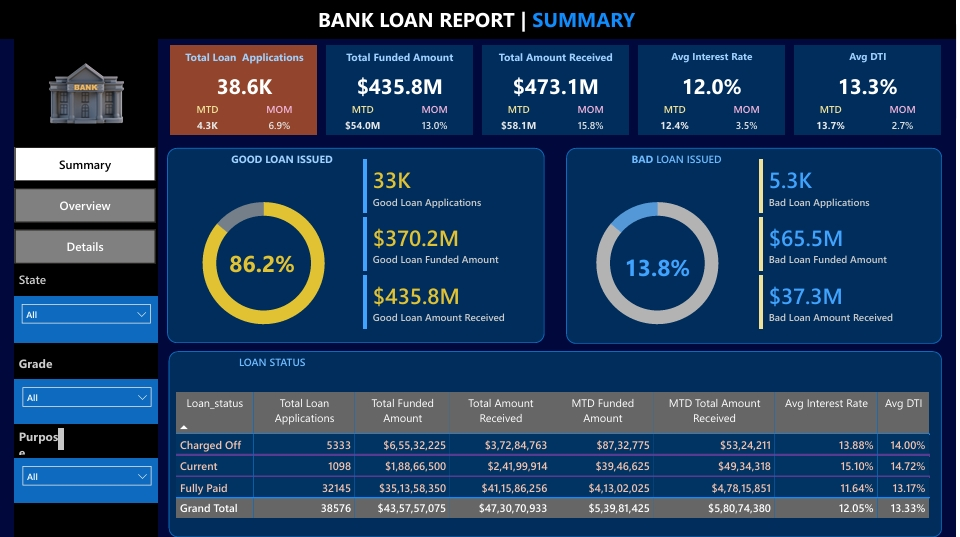

This screenshot's page, from the dashboard's own definition file:
{"tool":"powerbi","page":{"name":"Summary","canvas":[1280,720],"ordinal":0},"visuals":[{"type":"shape","box":[23.1,53.8,192.3,665.4],"z":0},{"type":"shape","box":[231.6,63.6,195.6,119.3],"z":1000,"group":"g1"},{"type":"shape","box":[439.3,63.6,195.6,119.3],"z":1000,"group":"g2"},{"type":"shape","box":[647.1,63.6,195.6,119.3],"z":1000,"group":"g3"},{"type":"shape","box":[854.8,63.6,195.6,119.3],"z":1000,"group":"g4"},{"type":"shape","box":[1062.5,63.6,195.6,119.3],"z":1000,"group":"g5"},{"type":"shape","box":[227.5,200.4,502.6,259.3],"z":1000},{"type":"shape","box":[0,0,1280.4,55.7],"z":2000},{"type":"textbox","box":[413.6,4.8,451.7,47.7],"z":3000},{"type":"group","id":"g1","title":"Group 1","box":[231.6,63.6,195.6,119.3],"z":4000},{"type":"card","fields":{"Values":["bank_loan_data.Total Loan Applications"]},"box":[231.6,98.6,195.6,36.6],"z":4000,"group":"g1"},{"type":"card","fields":{"Values":["bank_loan_data.Total Funded Amount"]},"box":[439.3,98.6,195.6,36.6],"z":4000,"group":"g2"},{"type":"card","fields":{"Values":["bank_loan_data.Total Amount Received"]},"box":[647.1,98.6,195.6,36.6],"z":4000,"group":"g3"},{"type":"card","fields":{"Values":["bank_loan_data.Avg Interest Rate"]},"box":[854.8,98.6,195.6,36.6],"z":4000,"group":"g4"},{"type":"card","fields":{"Values":["bank_loan_data.Avg DTI"]},"box":[1062.5,98.6,195.6,36.6],"z":4000,"group":"g5"},{"type":"textbox","box":[231.6,63.6,195.6,35],"z":5000,"group":"g1"},{"type":"group","id":"g2","title":"Group 1","box":[439.3,63.6,195.6,119.3],"z":5000},{"type":"textbox","box":[439.3,63.6,195.6,35],"z":5000,"group":"g2"},{"type":"textbox","box":[647.1,63.6,195.6,35],"z":5000,"group":"g3"},{"type":"textbox","box":[854.8,63.6,195.6,35],"z":5000,"group":"g4"},{"type":"textbox","box":[1062.5,63.6,195.6,35],"z":5000,"group":"g5"},{"type":"card","title":"MTD","fields":{"Values":["bank_loan_data.MTD Loan Applications"]},"box":[245.9,139.9,68.4,42.9],"z":6000,"group":"g1"},{"type":"card","title":"MTD","fields":{"Values":["bank_loan_data.MTD Funded Amount"]},"box":[453.6,139.9,68.4,42.9],"z":6000,"group":"g2"},{"type":"card","title":"MTD","fields":{"Values":["bank_loan_data.MTD Total Amount Received"]},"box":[661.4,139.9,68.4,42.9],"z":6000,"group":"g3"},{"type":"card","title":"MTD","fields":{"Values":["bank_loan_data.MTD Avg Int Rate"]},"box":[869.1,139.9,68.4,42.9],"z":6000,"group":"g4"},{"type":"card","title":"MTD","fields":{"Values":["bank_loan_data.MTD Avg DTI"]},"box":[1076.8,139.9,68.4,42.9],"z":6000,"group":"g5"},{"type":"donutChart","fields":{"Category":["bank_loan_data.Good vs Bad Loan"],"Y":["bank_loan_data.Total Loan Applications"]},"box":[233.8,246.5,243.4,213.1],"z":6000},{"type":"card","title":"MOM","fields":{"Values":["bank_loan_data.MOM Loan Application"]},"box":[342.9,139.9,66.8,42.9],"z":7000,"group":"g1"},{"type":"card","title":"MOM","fields":{"Values":["bank_loan_data.MOM Total Funded Application"]},"box":[550.6,139.9,66.8,42.9],"z":7000,"group":"g2"},{"type":"card","title":"MOM","fields":{"Values":["bank_loan_data.MOM Amount Received"]},"box":[758.4,139.9,66.8,42.9],"z":7000,"group":"g3"},{"type":"card","title":"MOM","fields":{"Values":["bank_loan_data.MOM Total Avg Int Rate"]},"box":[966.1,139.9,66.8,42.9],"z":7000,"group":"g4"},{"type":"card","title":"MOM","fields":{"Values":["bank_loan_data.MOM Avg DTI"]},"box":[1173.8,139.9,66.8,42.9],"z":7000,"group":"g5"},{"type":"card","fields":{"Values":["bank_loan_data.Good Loan %"]},"box":[297.4,330.8,112.9,46.1],"z":7000},{"type":"group","id":"g3","title":"Group 1","box":[647.1,63.6,195.6,119.3],"z":8000},{"type":"group","id":"g4","title":"Group 1","box":[854.8,63.6,195.6,119.3],"z":9000},{"type":"group","id":"g5","title":"Group 1","box":[1062.5,63.6,195.6,119.3],"z":10000},{"type":"shape","box":[758.7,200.4,501,260.9],"z":11000},{"type":"textbox","box":[264,200.4,232.2,39.8],"z":12000},{"type":"cardVisual","fields":{"Data":["bank_loan_data.Good Loan Applications","bank_loan_data.Good Loan Funded Amount","bank_loan_data.Good Loan Amount Received"]},"box":[472.4,198.8,257.7,260.9],"z":13000},{"type":"donutChart","fields":{"Category":["bank_loan_data.Good vs Bad Loan"],"Y":["bank_loan_data.Total Loan Applications"]},"box":[758.7,246.5,243.4,213.1],"z":14000},{"type":"cardVisual","fields":{"Data":["bank_loan_data.Bad Loan Applications","bank_loan_data.Bad Loan Funded Amount","bank_loan_data.Bad Loan Amount Received"]},"box":[1000.5,198.8,257.7,260.9],"z":15000},{"type":"textbox","box":[792.1,200.4,227.5,39.8],"z":16000},{"type":"card","fields":{"Values":["bank_loan_data.Bad Loan %"]},"box":[823.9,335.6,112.9,46.1],"z":17000},{"type":"shape","box":[228.8,471.2,1030.8,248.1],"z":18000},{"type":"tableEx","fields":{"Values":["bank_loan_data.loan_status","bank_loan_data.Total Loan Applications","bank_loan_data.Total Funded Amount","bank_loan_data.Total Amount Received","bank_loan_data.MTD Funded Amount","bank_loan_data.MTD Total Amount Received","bank_loan_data.Avg Interest Rate","bank_loan_data.Avg DTI"]},"box":[232.7,521.2,1025,184.6],"z":19000},{"type":"textbox","box":[246.2,471.2,242.3,50],"z":20000},{"type":"slicer","fields":{"Values":["bank_loan_data.address_state"]},"box":[23.1,398.1,192.3,61.5],"z":21000},{"type":"textbox","box":[23.9,359.5,71.6,38.2],"z":22000},{"type":"slicer","fields":{"Values":["bank_loan_data.grade"]},"box":[23.9,509,192.5,60.4],"z":23000},{"type":"textbox","box":[23.9,470.8,71.6,38.2],"z":24000},{"type":"slicer","fields":{"Values":["bank_loan_data.purpose"]},"box":[23.9,614,192.5,60.4],"z":25000},{"type":"textbox","box":[23.9,569.4,71.6,44.5],"z":26000},{"type":"pageNavigator","box":[23.9,198.8,187.7,155.9],"z":27000},{"type":"image","box":[23.9,63.6,187.7,119.3],"z":28000}]}

Visuals, with their boxes in screenshot pixels (x1, y1, x2, y2), scaled from the page's 1280x720 canvas onto the 960x537 screenshot:
shape: (17,40,162,536)
shape: (174,47,320,136)
shape: (329,47,476,136)
shape: (485,47,632,136)
shape: (641,47,788,136)
shape: (797,47,944,136)
shape: (171,149,548,343)
shape: (0,0,959,42)
textbox: (310,4,649,39)
"Group 1" group: (174,47,320,136)
card - bank_loan_data.Total Loan Applications: (174,74,320,101)
card - bank_loan_data.Total Funded Amount: (329,74,476,101)
card - bank_loan_data.Total Amount Received: (485,74,632,101)
card - bank_loan_data.Avg Interest Rate: (641,74,788,101)
card - bank_loan_data.Avg DTI: (797,74,944,101)
textbox: (174,47,320,74)
"Group 1" group: (329,47,476,136)
textbox: (329,47,476,74)
textbox: (485,47,632,74)
textbox: (641,47,788,74)
textbox: (797,47,944,74)
"MTD" card: (184,104,236,136)
"MTD" card: (340,104,392,136)
"MTD" card: (496,104,547,136)
"MTD" card: (652,104,703,136)
"MTD" card: (808,104,859,136)
donutChart - bank_loan_data.Good vs Bad Loan x bank_loan_data.Total Loan Applications: (175,184,358,343)
"MOM" card: (257,104,307,136)
"MOM" card: (413,104,463,136)
"MOM" card: (569,104,619,136)
"MOM" card: (725,104,775,136)
"MOM" card: (880,104,930,136)
card - bank_loan_data.Good Loan %: (223,247,308,281)
"Group 1" group: (485,47,632,136)
"Group 1" group: (641,47,788,136)
"Group 1" group: (797,47,944,136)
shape: (569,149,945,344)
textbox: (198,149,372,179)
cardVisual - bank_loan_data.Good Loan Applications x bank_loan_data.Good Loan Funded Amount: (354,148,548,343)
donutChart - bank_loan_data.Good vs Bad Loan x bank_loan_data.Total Loan Applications: (569,184,752,343)
cardVisual - bank_loan_data.Bad Loan Applications x bank_loan_data.Bad Loan Funded Amount: (750,148,944,343)
textbox: (594,149,765,179)
card - bank_loan_data.Bad Loan %: (618,250,703,285)
shape: (172,351,945,536)
tableEx - bank_loan_data.loan_status x bank_loan_data.Total Loan Applications: (175,389,943,526)
textbox: (185,351,366,389)
slicer - bank_loan_data.address_state: (17,297,162,343)
textbox: (18,268,72,297)
slicer - bank_loan_data.grade: (18,380,162,425)
textbox: (18,351,72,380)
slicer - bank_loan_data.purpose: (18,458,162,503)
textbox: (18,425,72,458)
pageNavigator: (18,148,159,265)
image: (18,47,159,136)
